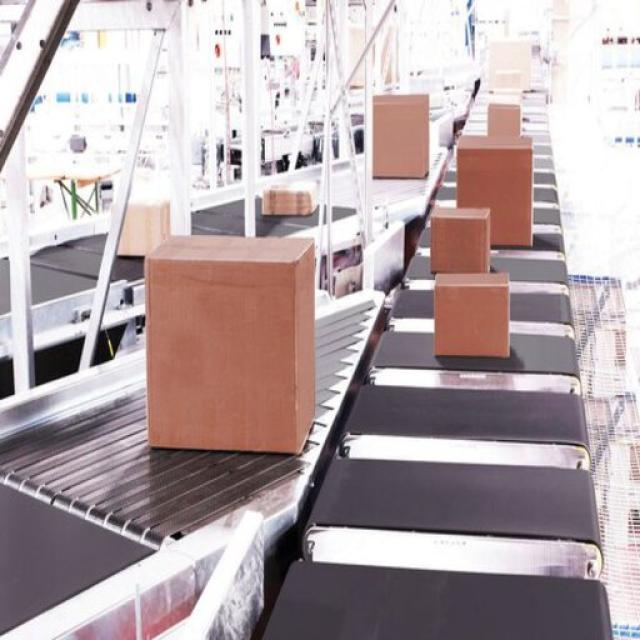conveyor: (241, 46, 640, 640), (0, 294, 379, 640), (0, 129, 444, 341)
